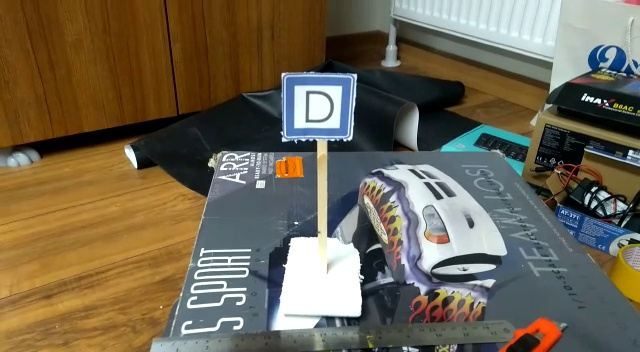durak: (284, 74, 349, 136)
